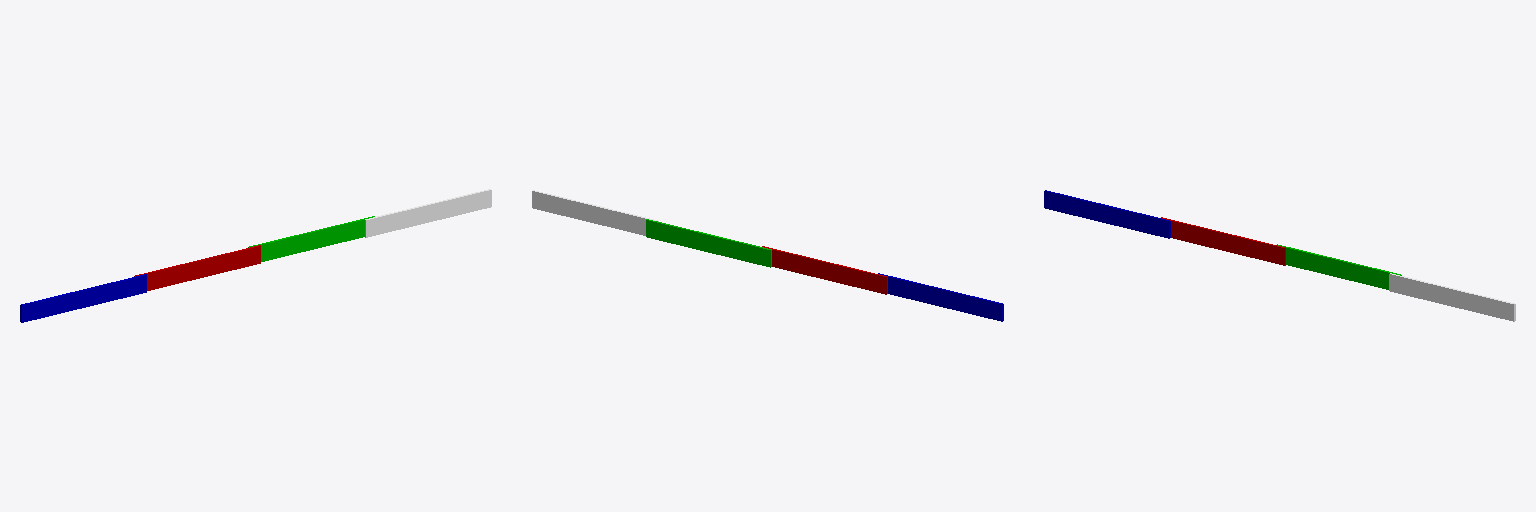
URDF robot description (four_bar_link):
<robot name="four_bar_link">
	<material name="blue">
		<color rgba = "0 0 0.8 1"/>
	</material>
	
	<material name="red">
		<color rgba = "0.8 0 0 1"/>
	</material>
	
	<material name="green">
		<color rgba = "0 0.8 0 1"/>
	</material>
	
	<material name="white">
		<color rgba = "1 1 1 1"/>
	</material>
	
	<link name="dummy">
	</link>

	<link name = "link1">
		<visual>
			<geometry>
				<box size ="0.6 0.01 0.08"/>
			</geometry>
			<material name="blue"/>
		</visual>
		<inertial>
			<mass value="1"/>
			<inertia ixx="1e-3" ixy="1e-3" ixz="1e-3" iyy="1e-3" iyz="1e-3" izz="1e-3"/>
		</inertial>
	</link>
	
	<link name = "link2">
		<visual>
			<origin xyz="0.275 0 0" rpy="0 0 0" />
			<geometry>
				<box size ="0.6 0.01 0.08"/>
			</geometry>
			<material name="red"/>
		</visual>
		<inertial>
			<mass value="1"/>
			<inertia ixx="1e-3" ixy="1e-3" ixz="1e-3" iyy="1e-3" iyz="1e-3" izz="1e-3"/>
		</inertial>
	</link>
	
	<link name = "link3">
		<visual>
			<origin xyz="0.275 0 0" rpy="0 0 0" />
			<geometry>
				<box size ="0.6 0.01 0.08"/>
			</geometry>
			<material name="green"/>
		<inertial>
			<mass value="1"/>
			<inertia ixx="1e-3" ixy="1e-3" ixz="1e-3" iyy="1e-3" iyz="1e-3" izz="1e-3"/>
		</inertial>
		</visual>
	</link>
	
	<link name = "link4">
		<visual>
			<origin xyz="0.275 0 0" rpy="0 0 0" />
			<geometry>
				<box size ="0.6 0.01 0.08"/>
			</geometry>
			<material name="white"/>
		</visual>
		<inertial>
			<mass value="1"/>
			<inertia ixx="1e-3" ixy="1e-3" ixz="1e-3" iyy="1e-3" iyz="1e-3" izz="1e-3"/>
		</inertial>
	</link>
	
	<joint name="joint1" type="continuous">
		<parent link="link1" />
		<child link="link2" />
		<origin xyz="0.275 0.01 0" rpy="0 0 0" />
		<axis xyz="0 1 0" />
	</joint>

	<joint name="joint2" type="continuous">
		<parent link="link2" />
		<child link="link3" />
		<origin xyz="0.55 0.01 0" rpy="0 0 0" />
		<axis xyz="0 1 0" />
	</joint>
	
	<joint name="joint3" type="continuous">
		<parent link="link3" />
		<child link="link4" />
		<origin xyz="0.55 -0.01 0" rpy="0 0 0" />
		<axis xyz="0 1 0" />
	</joint>
	
	<joint name="dummy" type="fixed">
		<parent link="dummy"/>
		<child link="link1"/>
	</joint>
</robot>

--- Render facts (derived) ---
The picture shows the robot from 3 angles, left to right: view 1: azimuth 30°, elevation 25°; view 2: azimuth 150°, elevation 25°; view 3: azimuth 330°, elevation 25°; orthographic projection.
Robot: four_bar_link — 5 links, 4 joints (3 continuous, 1 fixed); root link dummy; default pose: every joint at zero.
Links seen in each view (by area): view 1: link1, link4, link2, link3; view 2: link3, link2, link1, link4; view 3: link1, link4, link2, link3.
Boxes of the visible links, <box> form: link1: <box>20,274,146,322</box>; link4: <box>365,189,491,237</box>; link2: <box>134,245,260,290</box>; link3: <box>248,216,374,261</box>; link3: <box>646,219,771,267</box>; link2: <box>762,246,887,294</box>; link1: <box>878,273,1003,321</box>; link4: <box>532,190,658,235</box>; link1: <box>1044,190,1170,238</box>; link4: <box>1389,273,1515,321</box>; link2: <box>1161,217,1285,265</box>; link3: <box>1277,244,1401,289</box>.
Size in the robot's own frame: 2.25 by 0.03 by 0.08 metres.
Geometry: primitives only (box / cylinder / sphere), no mesh files.
